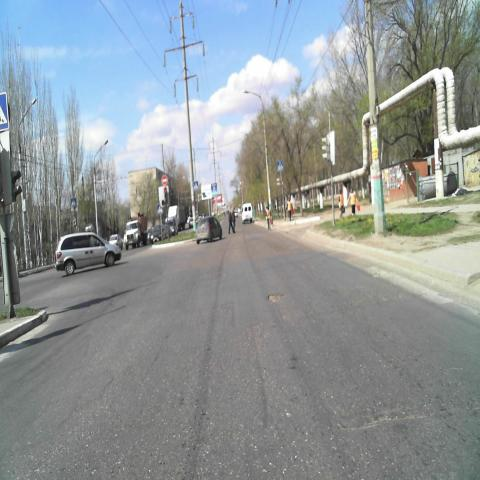3_1: (161, 172, 167, 184)
5_19_1: (277, 158, 284, 170), (193, 178, 199, 189), (157, 201, 163, 212), (71, 195, 77, 205)
